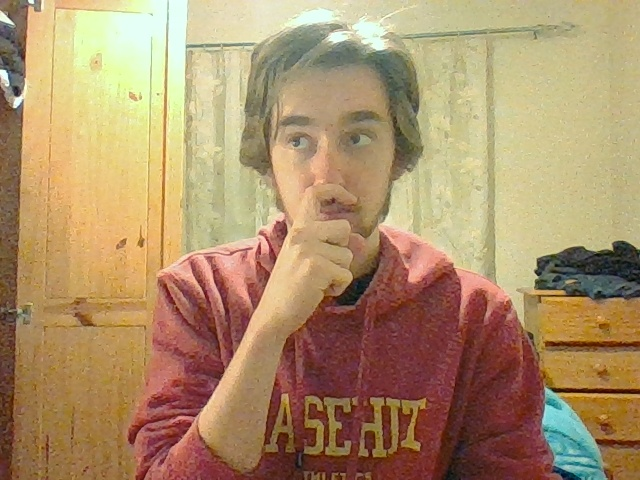sister: (281, 183, 369, 310)
